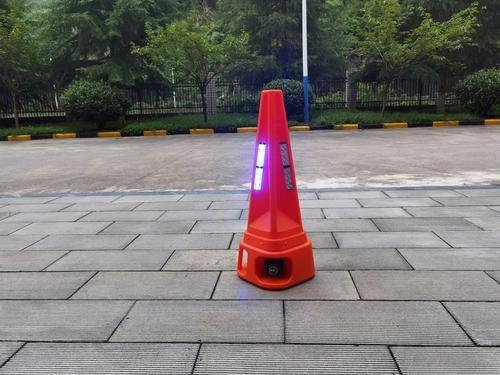cone_barrel: (231, 94, 321, 288)
